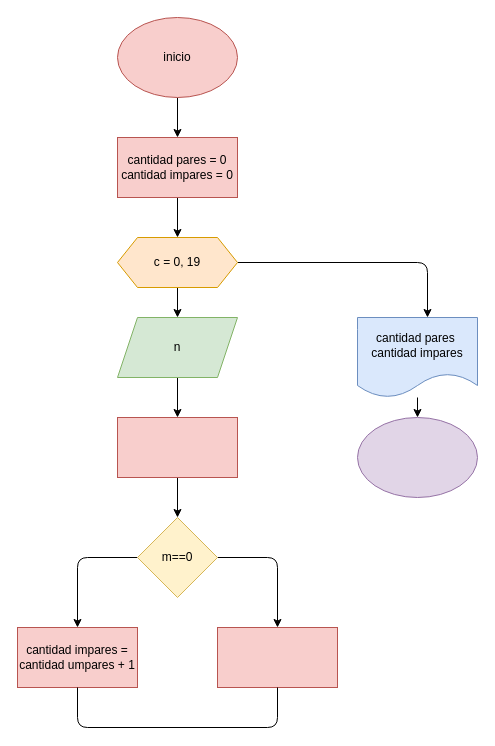
The diagram is 495 pixels wide and 746 high, and some of its shapes have lost their labels. Each missing label, with the box of its shape:
cantidad pares = cantidad pares + 1: (216, 626, 338, 688)
fin: (356, 416, 478, 498)
m=n%2: (116, 416, 238, 478)
